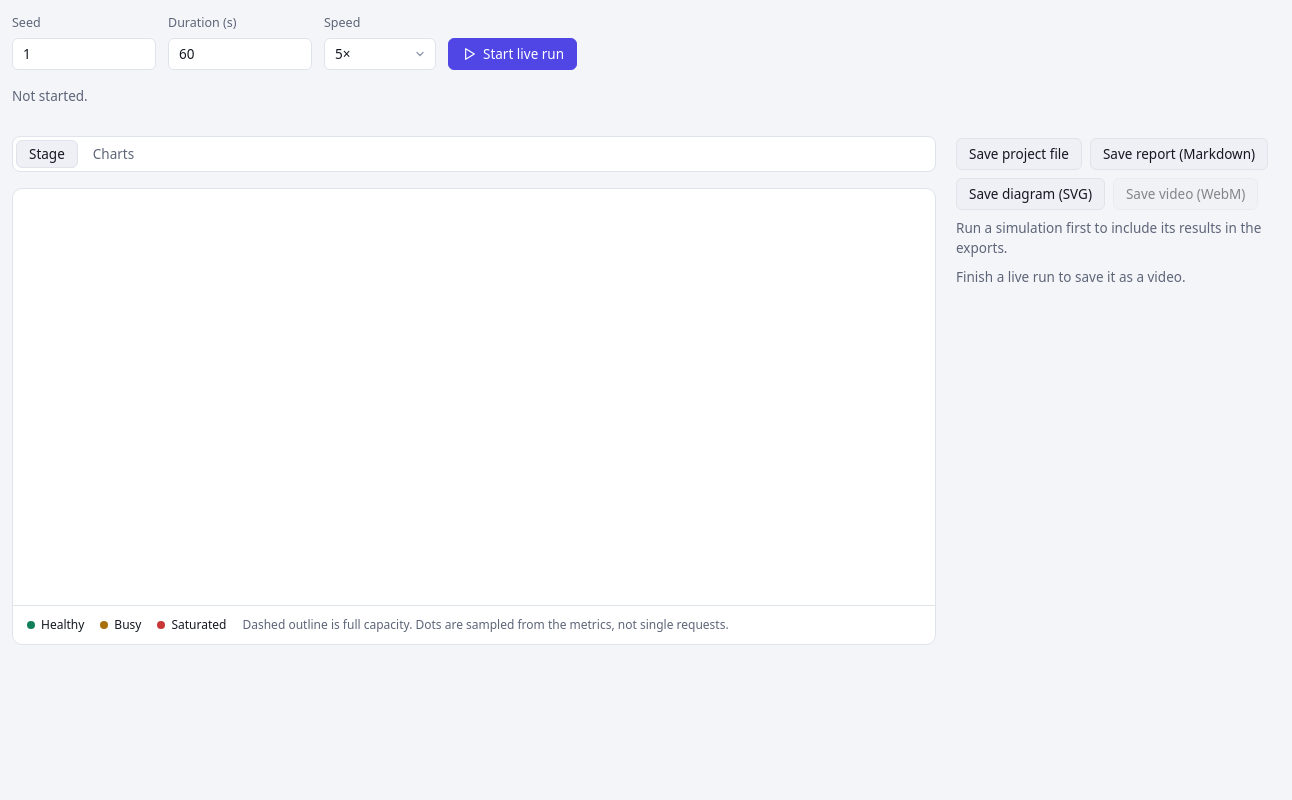
Test: LivePanel › reports a run that fails to start
This screenshot has width=1292, height=800.
Click the button "Start live run".
click(512, 54)  # box [448, 38, 577, 70]
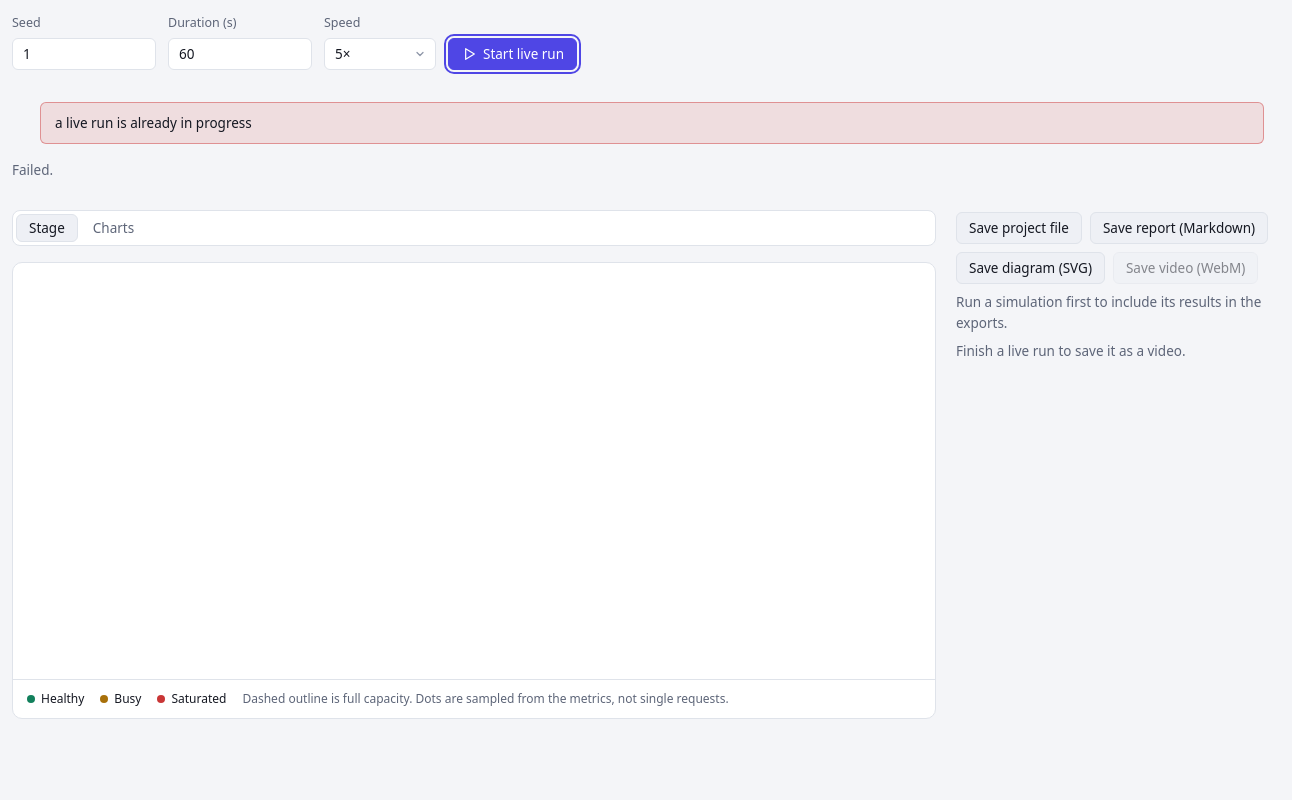
Expected: the message "a live run is already in progress" is shown, [40, 102, 1264, 144]
Expected: the text "Failed." is shown, [12, 161, 53, 179]
